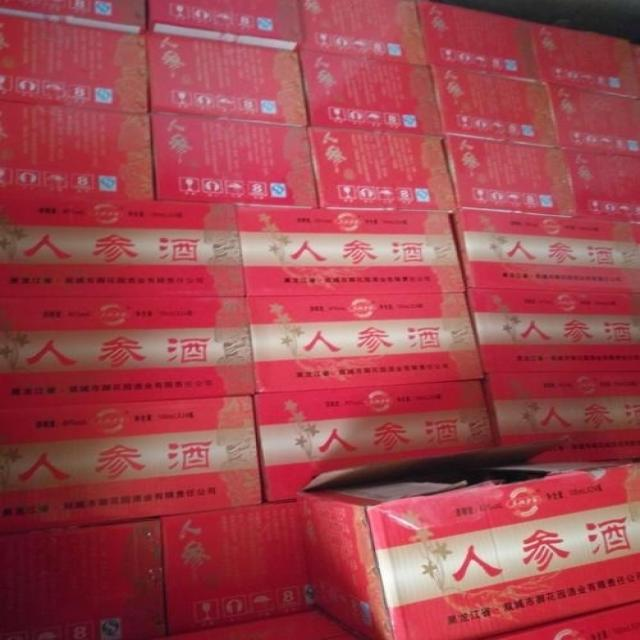box: (300, 438, 638, 638), (1, 393, 263, 535), (254, 379, 504, 501), (0, 295, 257, 406), (3, 185, 246, 297), (244, 292, 484, 390), (239, 205, 469, 297), (158, 499, 317, 632), (2, 514, 170, 639), (152, 111, 321, 208), (2, 96, 156, 199), (149, 32, 309, 129), (451, 210, 639, 292), (1, 12, 150, 113), (467, 288, 638, 373), (485, 369, 639, 463), (300, 48, 446, 140), (309, 126, 457, 208), (446, 134, 576, 215), (417, 0, 543, 82), (433, 68, 562, 148), (300, 1, 428, 65), (531, 22, 638, 98), (146, 0, 303, 49), (143, 605, 367, 639), (549, 83, 638, 153), (560, 146, 639, 221), (491, 600, 638, 639), (1, 1, 148, 32)
